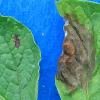Potato leaf early blight: (53, 0, 99, 99), (0, 11, 41, 100)
